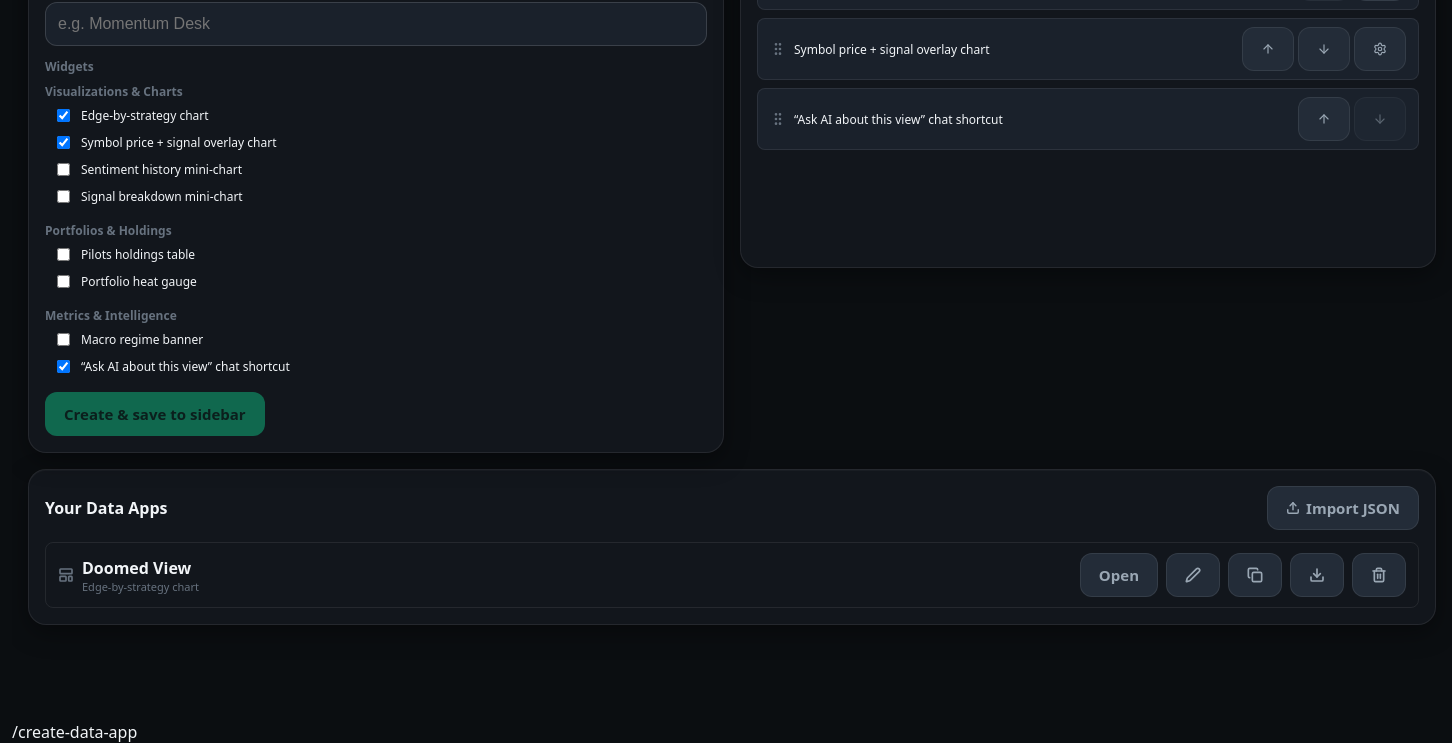
Test case: CreateDataApp screen › deleting an existing view removes it from the list and from storage
(page scrolled)
Expected: the element with test id "data-app-row-doomed-view" is shown, [45, 542, 1419, 608]
Click the button with test id "data-app-delete-doomed-view" at (1379, 575), box [1352, 553, 1406, 597]
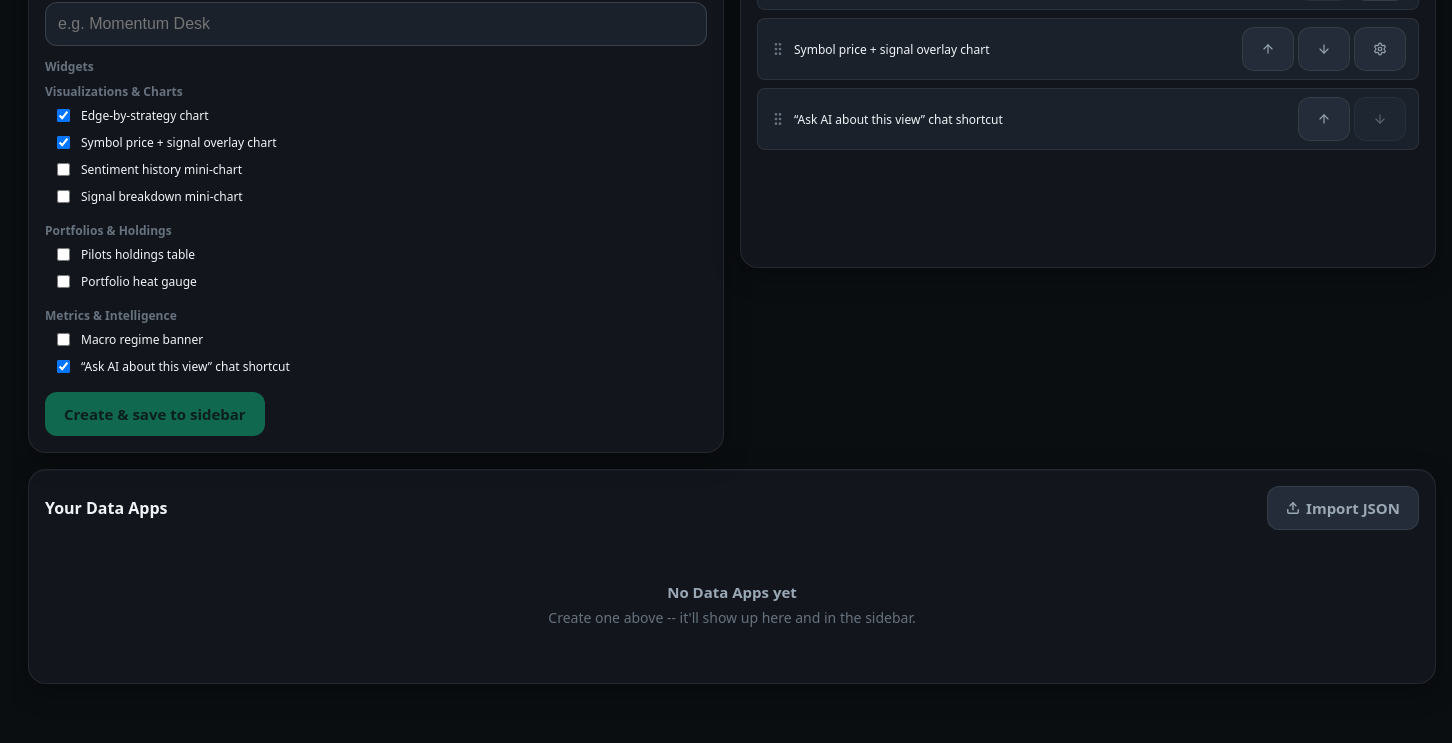
Expected: the element with test id "data-app-row-doomed-view" is gone
Expected: the text "No Data Apps yet" is shown, [667, 582, 797, 602]
